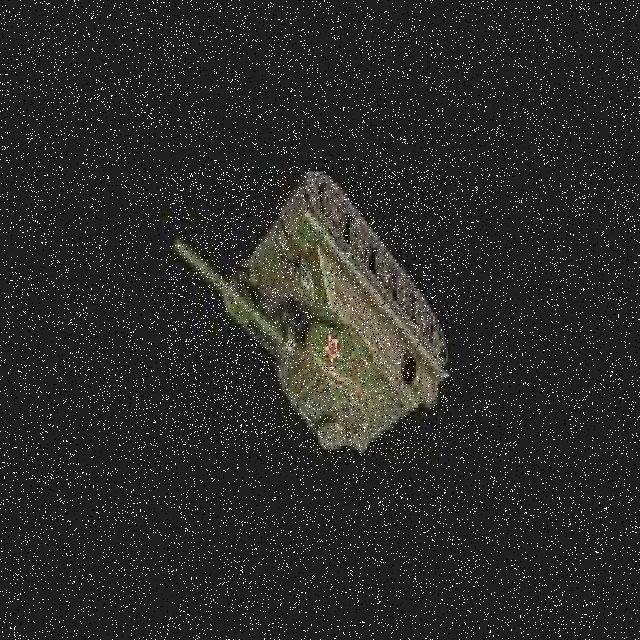MIL_MBT: (169, 166, 448, 455)
